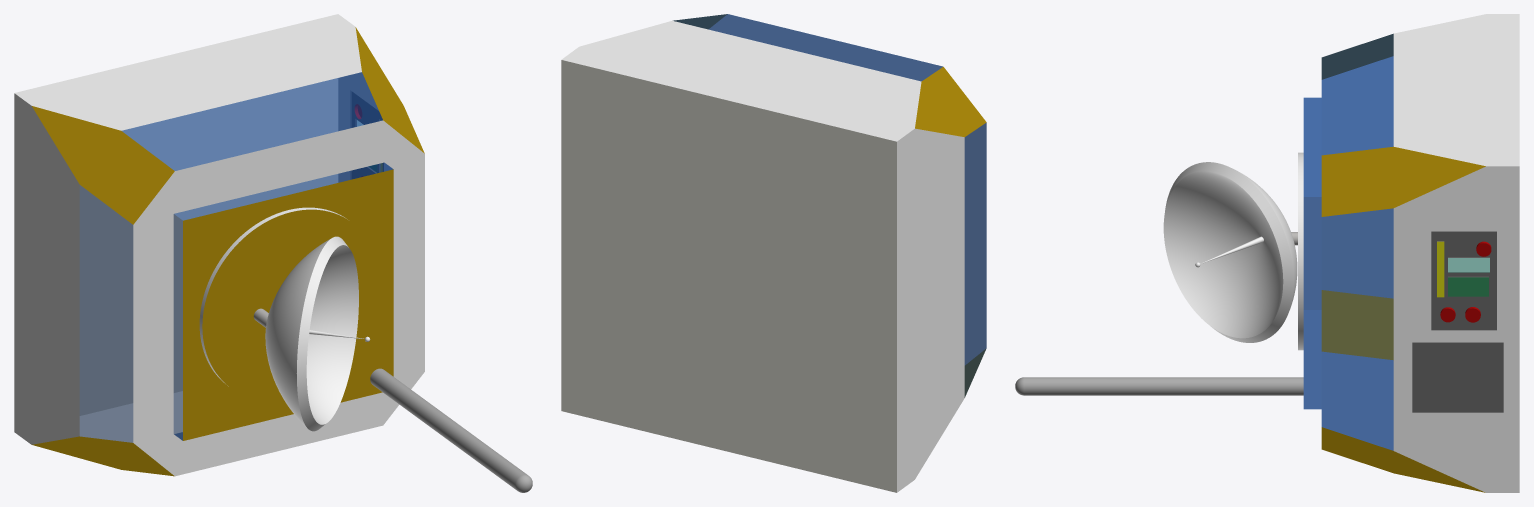
The model's file is checkpoint_final.obj.
3 renders of one model, left to right at view 1: azimuth 30°, elevation 25°; view 2: azimuth 150°, elevation 25°; view 3: azimuth 270°, elevation 25°, orthographic. The views are drawn at different scales.
Parts seen in each view (by area): view 1: Solid1; view 2: Solid1; view 3: Solid1.
Boxes of the visible parts, box(x1,y1,x2,y2) form: Solid1: box(14, 14, 532, 492); Solid1: box(561, 14, 986, 492); Solid1: box(1015, 14, 1519, 492).
Bounding box in the file's own units: 20.3 × 20 × 28.
